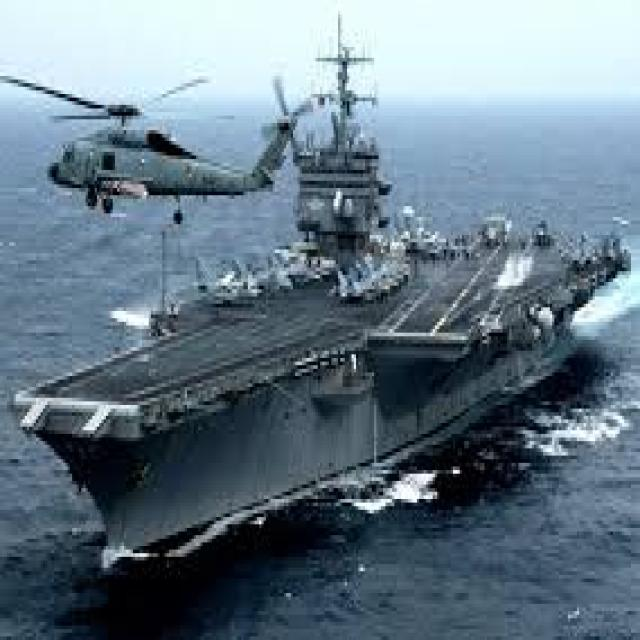navalvessels: (21, 35, 632, 565)
